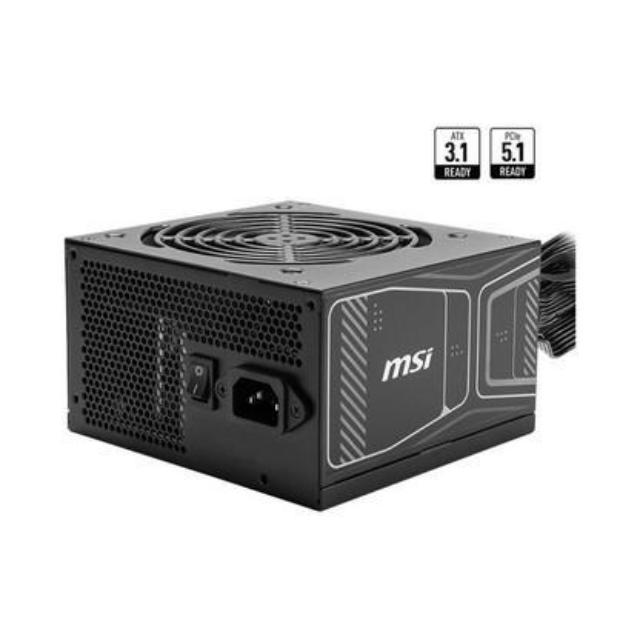PSU: (66, 176, 548, 522)
